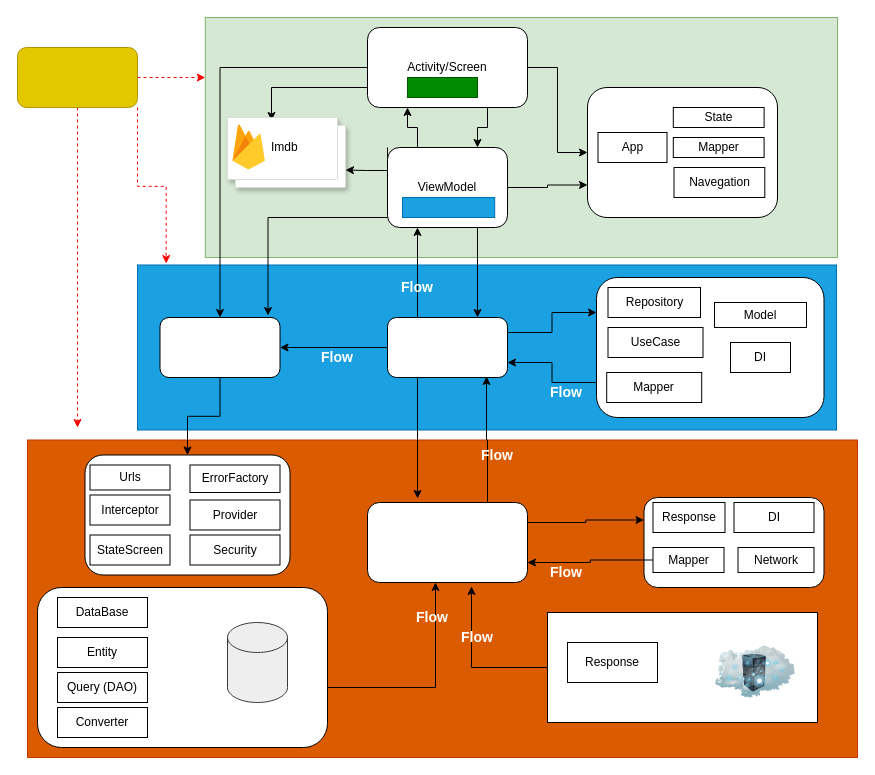
Image size: 875x775. Some labels were removed from this diagram. The shapes that lost their labels are listed below. From the top down, each one's centre as x and y in pixels, then its label:
point (77, 77): buildSrc
point (442, 87): Compose
point (448, 207): Flow/State
point (219, 347): Core
point (447, 347): Domain
point (447, 542): Data
point (257, 662): Room
